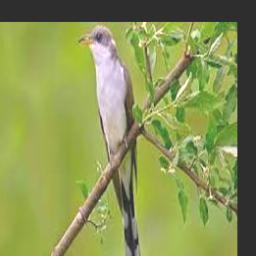Cuckoo: (78, 24, 143, 256)
